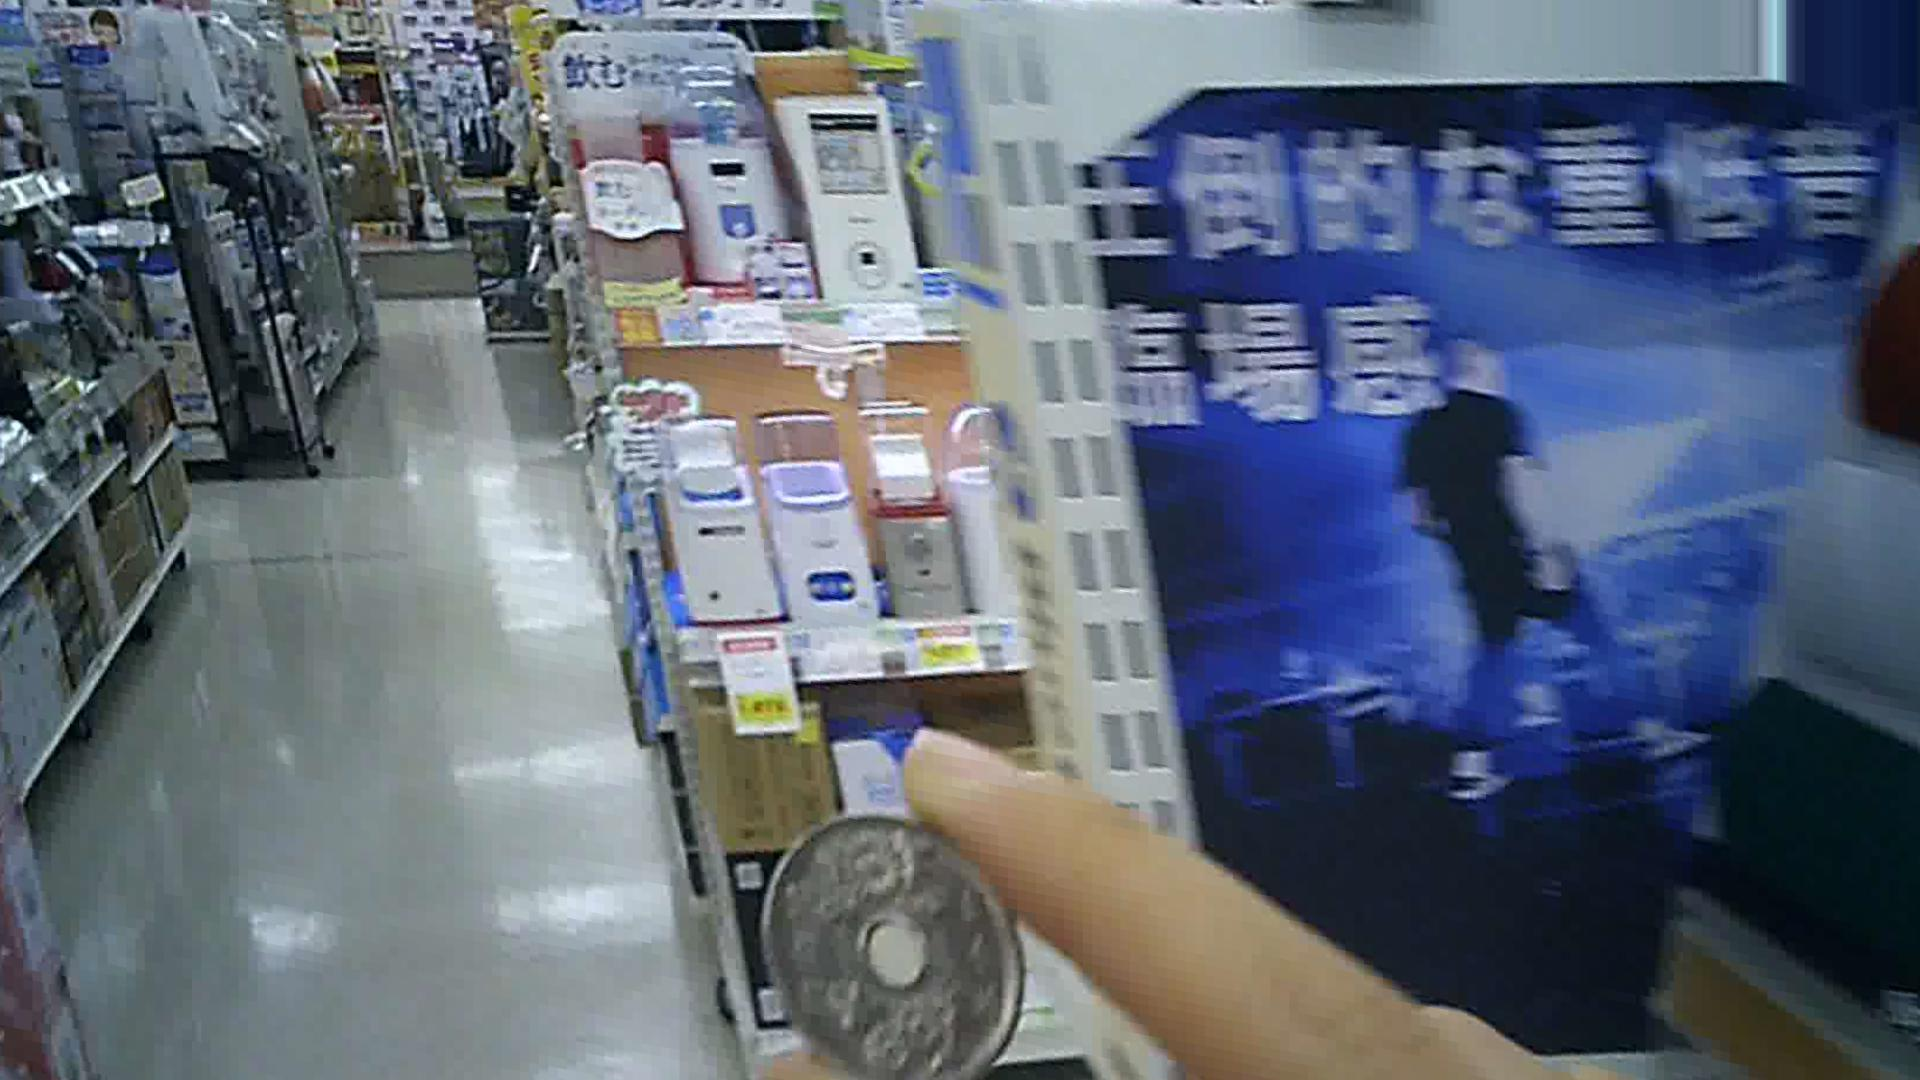50 Yen: (748, 814, 1036, 1062)
